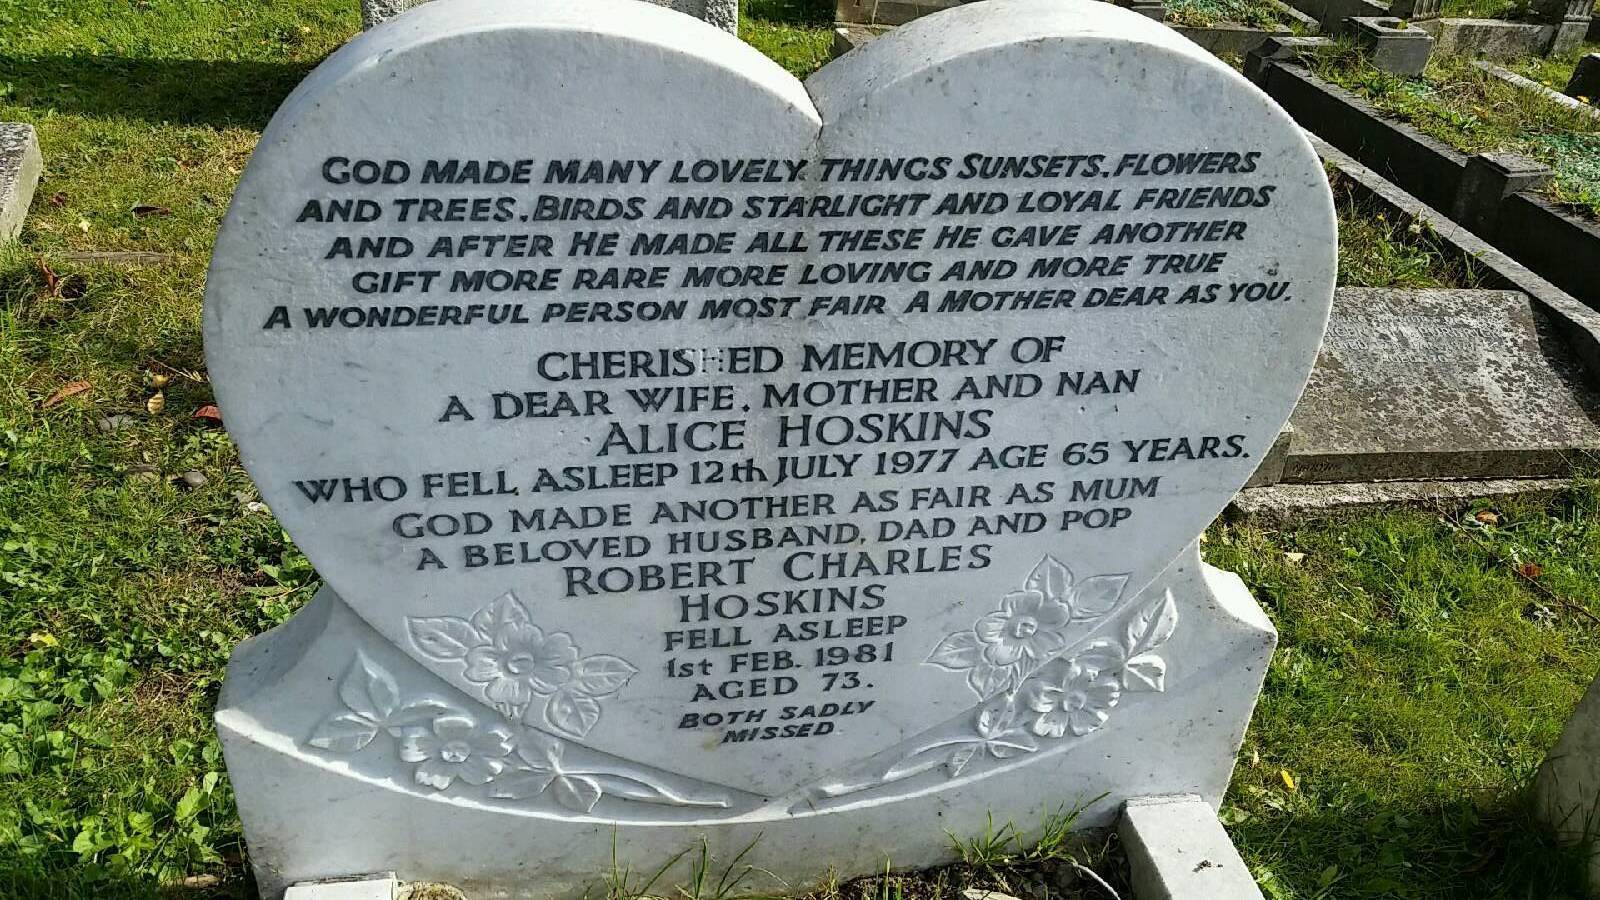upright: (221, 0, 1334, 900)
